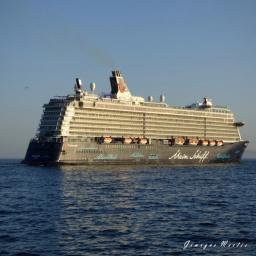cruises: (24, 68, 252, 168)
